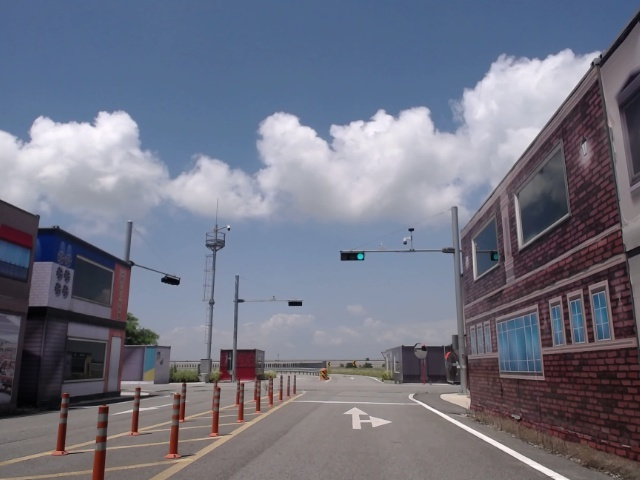green_3: (341, 253, 364, 260)
